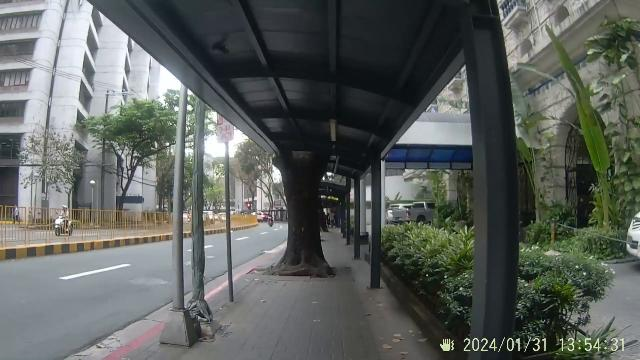lamp_post: (86, 178, 98, 210)
street_sign: (215, 114, 237, 298)
tree: (277, 153, 333, 275)
utility_post: (156, 77, 200, 348)
